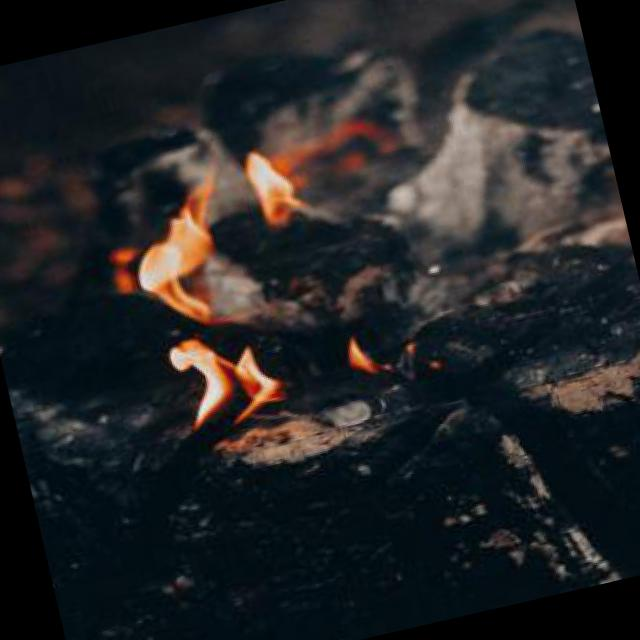fire: (85, 74, 422, 457)
